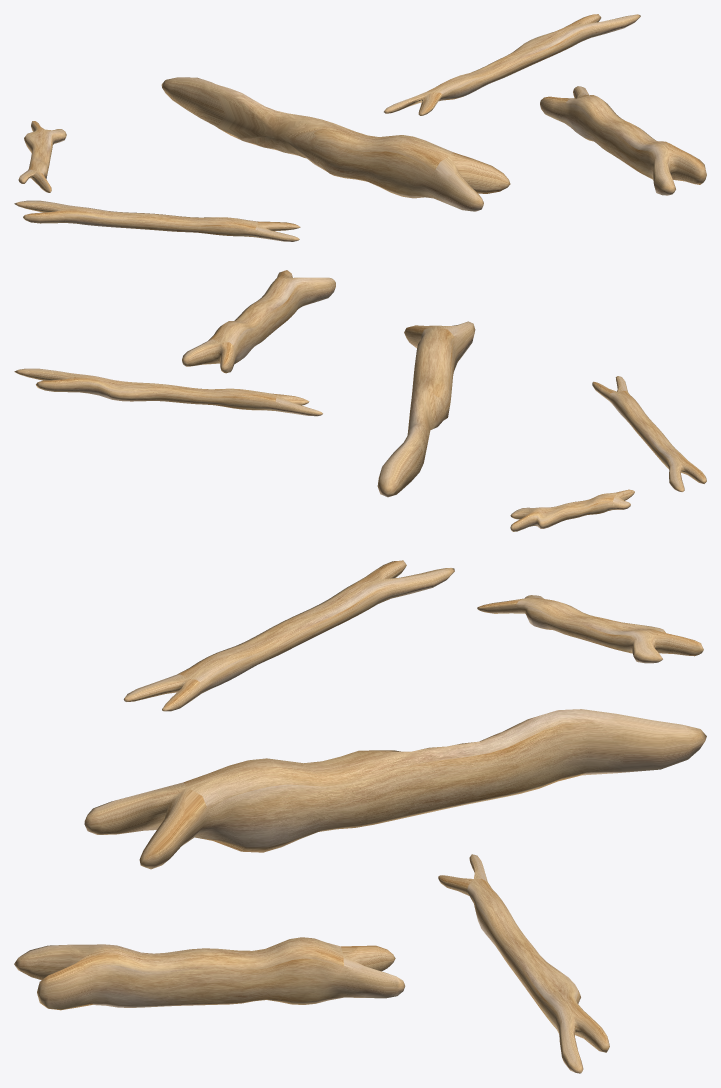
File: PileOfBones2.FBX
The picture shows the model from 3 angles, top to bottom: view 1: azimuth 30°, elevation 25°; view 2: azimuth 150°, elevation 25°; view 3: azimuth 270°, elevation 25°; orthographic projection. The views are drawn at different scales.
Visible parts, largest first — view 1: MainBone2, Bone2_02, Bone2_03, Bone2_01, Bone2_04; view 2: MainBone2, Bone2_02, Bone2_01, Bone2_03, Bone2_04; view 3: MainBone2, Bone2_02, Bone2_03, Bone2_01, Bone2_04.
Boxes of the visible parts, bbox=[...] form: MainBone2: bbox=[161, 77, 510, 211]; Bone2_02: bbox=[540, 86, 706, 195]; Bone2_03: bbox=[14, 200, 300, 241]; Bone2_01: bbox=[384, 14, 640, 115]; Bone2_04: bbox=[18, 121, 66, 192]; MainBone2: bbox=[377, 321, 475, 497]; Bone2_02: bbox=[182, 270, 335, 373]; Bone2_01: bbox=[14, 368, 322, 416]; Bone2_03: bbox=[592, 376, 706, 491]; Bone2_04: bbox=[510, 489, 634, 531]; MainBone2: bbox=[84, 709, 706, 869]; Bone2_02: bbox=[14, 937, 405, 1010]; Bone2_03: bbox=[123, 560, 454, 711]; Bone2_01: bbox=[438, 854, 609, 1073]; Bone2_04: bbox=[477, 595, 703, 663].
Bounding box in the file's own units: 50.35 × 3.99 × 29.33.
1 material, 1 textured.
